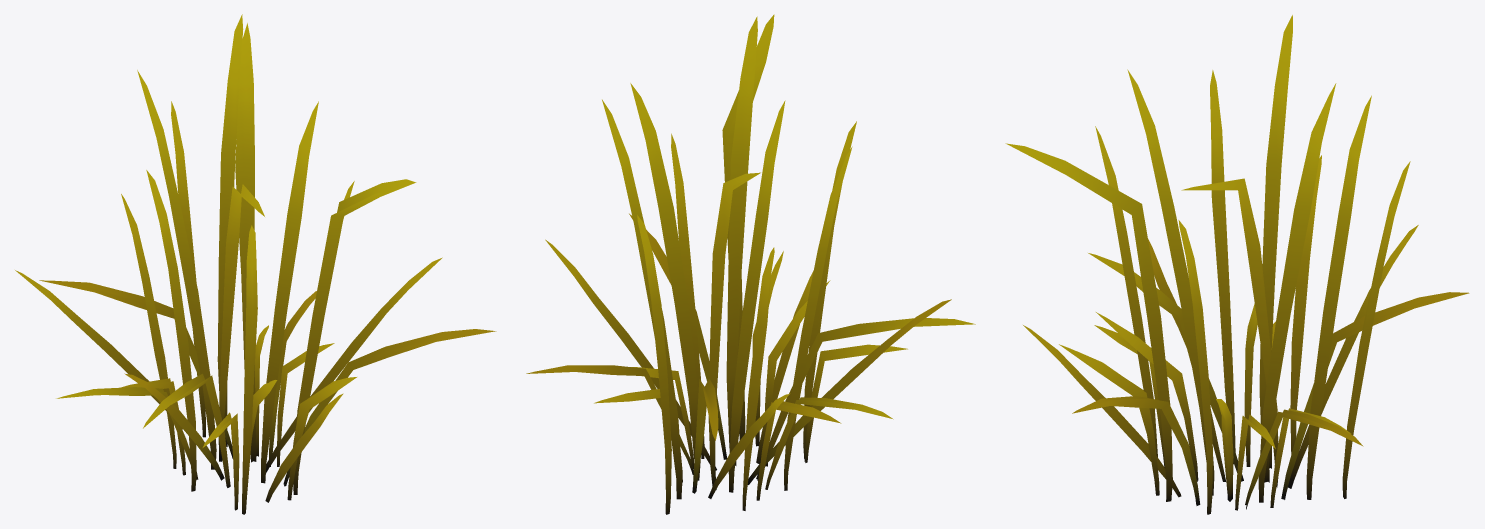
The model's file is grass2.glb.
3 renders of one model, left to right at view 1: azimuth 30°, elevation 25°; view 2: azimuth 150°, elevation 25°; view 3: azimuth 270°, elevation 25°, orthographic. The views are drawn at different scales.
Visible parts, largest first — view 1: Grass_Wispy_Tall; view 2: Grass_Wispy_Tall; view 3: Grass_Wispy_Tall.
Boxes of the visible parts, x1,y1,x2,y2 form: Grass_Wispy_Tall: [15, 14, 496, 514]; Grass_Wispy_Tall: [526, 14, 975, 514]; Grass_Wispy_Tall: [1005, 15, 1469, 514].
Bounding box in the file's own units: 1.54 × 1.67 × 1.59.
Materials: 1 (1 with a texture image).
